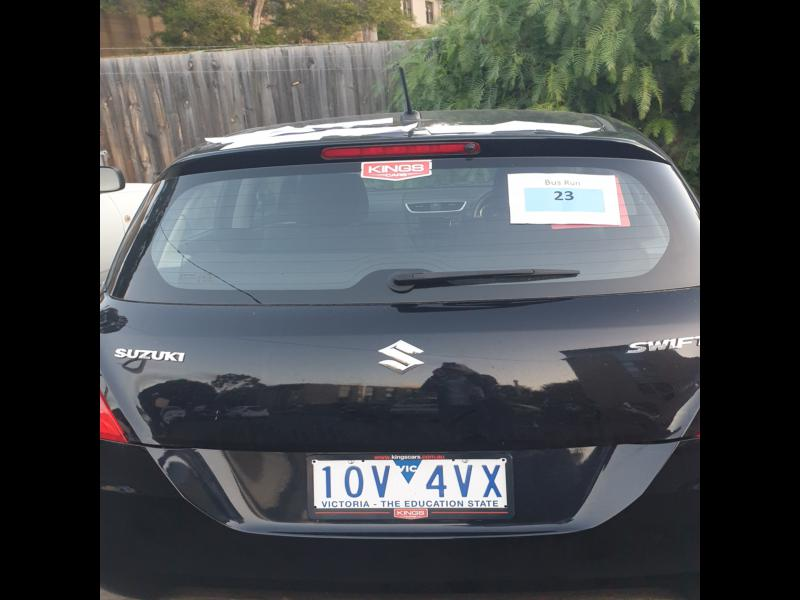BusRun: (524, 185, 606, 214)
PlateNo: (311, 456, 513, 503)
